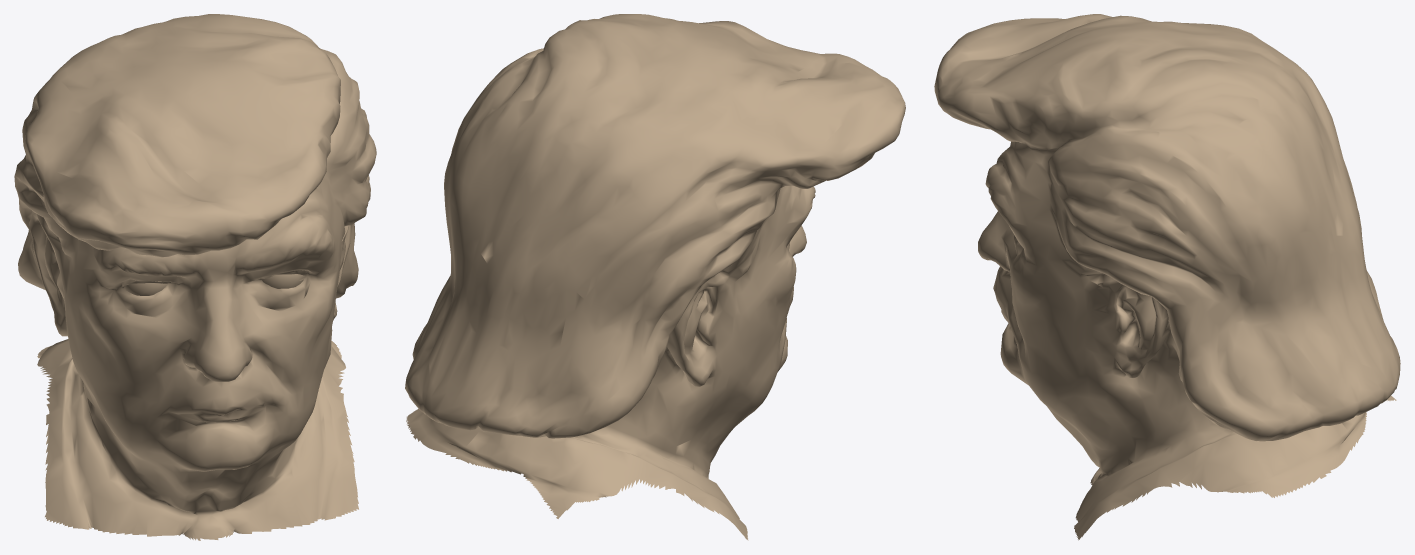
The model's file is djt7.glb.
3 renders of one model, left to right at view 1: azimuth 30°, elevation 25°; view 2: azimuth 150°, elevation 25°; view 3: azimuth 270°, elevation 25°, orthographic. The views are drawn at different scales.
Visible parts, largest first — view 1: uploads_files_5567468_DT+PET; view 2: uploads_files_5567468_DT+PET; view 3: uploads_files_5567468_DT+PET.
Boxes of the visible parts, box(x1,y1,x2,y2) form: uploads_files_5567468_DT+PET: box(14, 14, 376, 540); uploads_files_5567468_DT+PET: box(405, 14, 905, 540); uploads_files_5567468_DT+PET: box(934, 14, 1400, 540).
Size of the model in its own units: 2.23 by 2.58 by 2.43.
